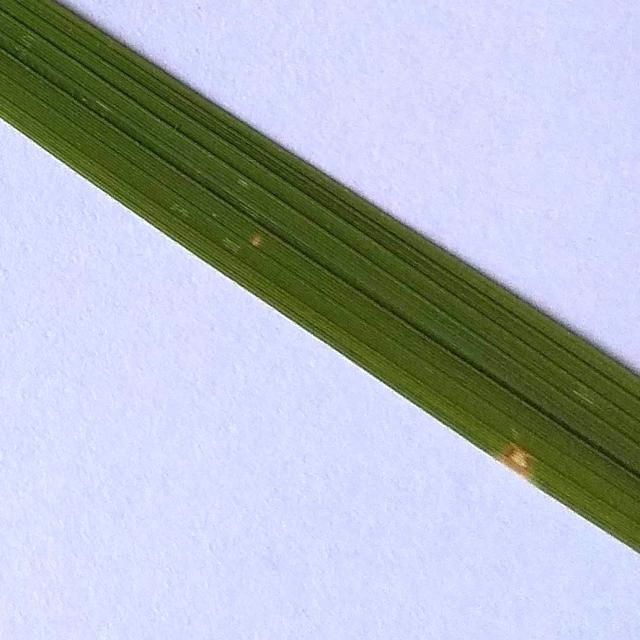Blast: (502, 444, 532, 468), (250, 230, 263, 250)
